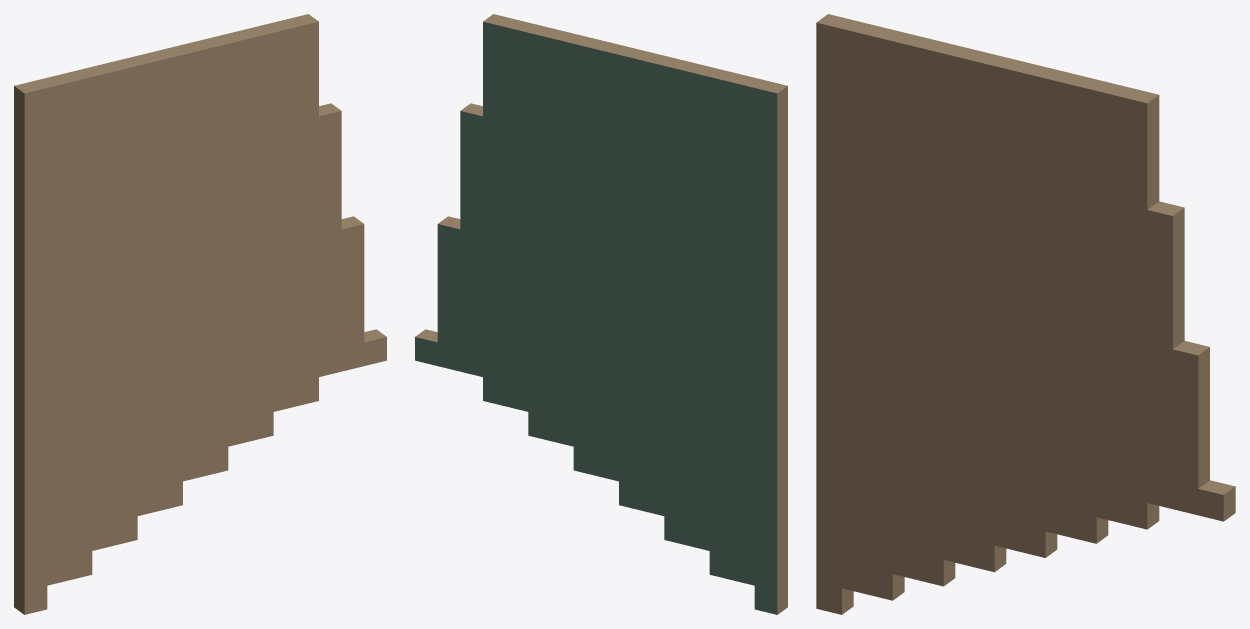
Rendered from SM_BarrierSign_1.fbx.
3 renders of one model, left to right at view 1: azimuth 30°, elevation 25°; view 2: azimuth 150°, elevation 25°; view 3: azimuth 330°, elevation 25°, orthographic. The views are drawn at different scales.
Parts seen in each view (by area): view 1: SM_BarrierSign_1; view 2: SM_BarrierSign_1; view 3: SM_BarrierSign_1.
Boxes of the visible parts, x1,y1,x2,y2 form: SM_BarrierSign_1: [14, 14, 386, 614]; SM_BarrierSign_1: [415, 14, 787, 614]; SM_BarrierSign_1: [816, 14, 1235, 614].
Size of the model in its own units: 40 by 2 by 55.
